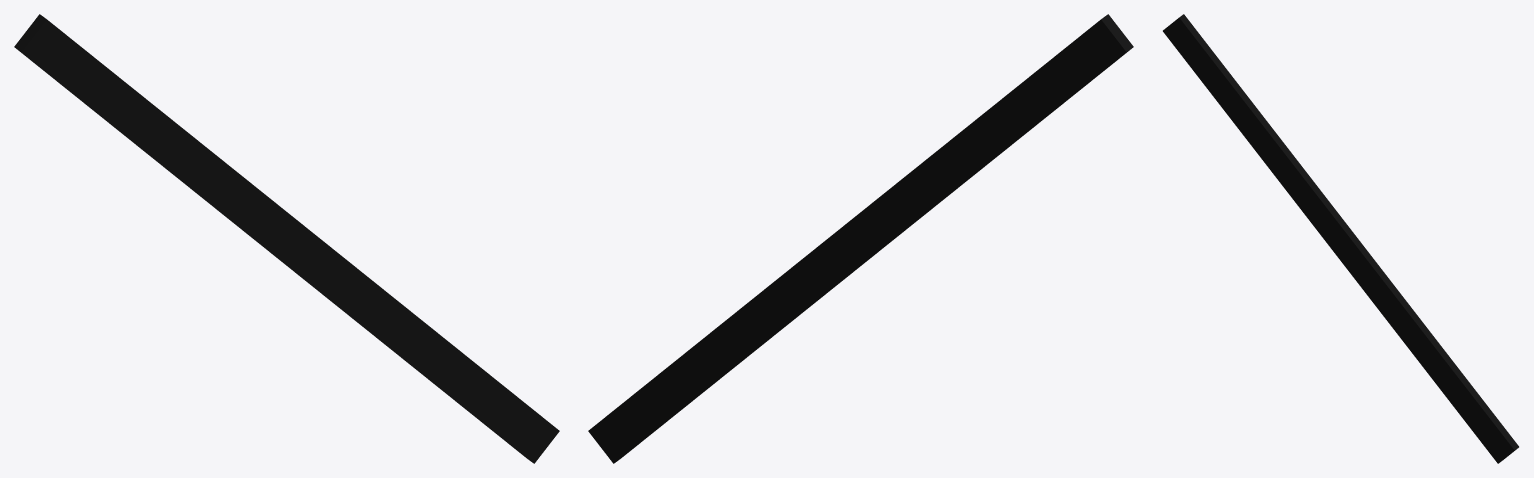
Rendered from Itr_Obj_Grandfatherclock2_Hour_01.FBX.
3 renders of one model, left to right at view 1: azimuth 30°, elevation 25°; view 2: azimuth 150°, elevation 25°; view 3: azimuth 330°, elevation 25°, orthographic. The views are drawn at different scales.
Visible parts, largest first — view 1: Itr_Obj_Grandfatherclock2_Hour_01; view 2: Itr_Obj_Grandfatherclock2_Hour_01; view 3: Itr_Obj_Grandfatherclock2_Hour_01.
Boxes of the visible parts, x1=… form: Itr_Obj_Grandfatherclock2_Hour_01: x1=14, y1=14, x2=559, y2=463; Itr_Obj_Grandfatherclock2_Hour_01: x1=588, y1=14, x2=1133, y2=463; Itr_Obj_Grandfatherclock2_Hour_01: x1=1163, y1=14, x2=1518, y2=463.
Bounding box in the file's own units: 2.93 × 2.93 × 0.0689.
